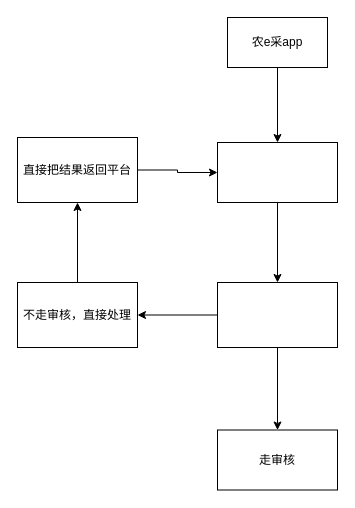
Image size: 355x508. Some labels were removed from this diagram. Each missing label, with the centre of its shape:
ai平台: the point at 277,172
算法识别牛接口: the point at 277,315
